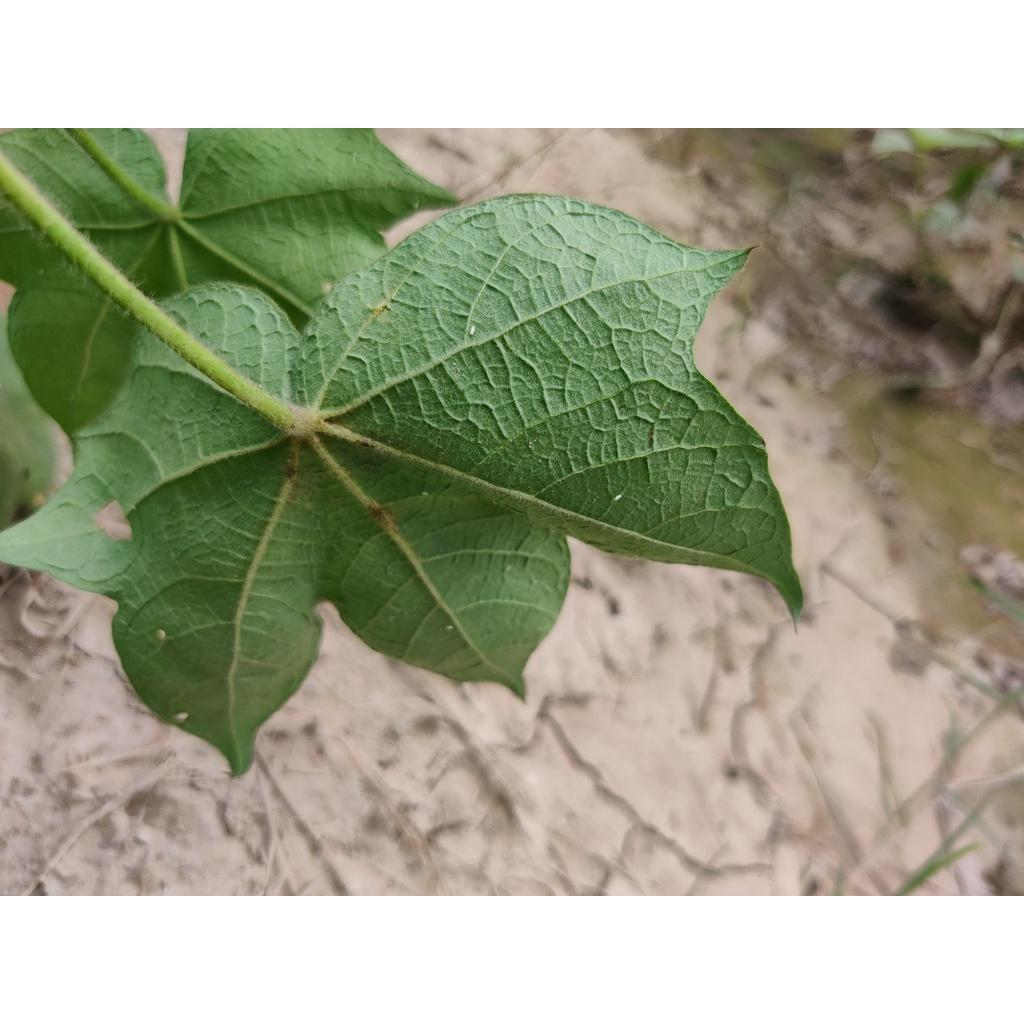adult: (173, 712, 189, 723), (154, 628, 166, 640), (468, 326, 476, 335), (505, 564, 513, 573), (614, 494, 622, 501), (446, 624, 454, 631), (421, 492, 428, 496)
